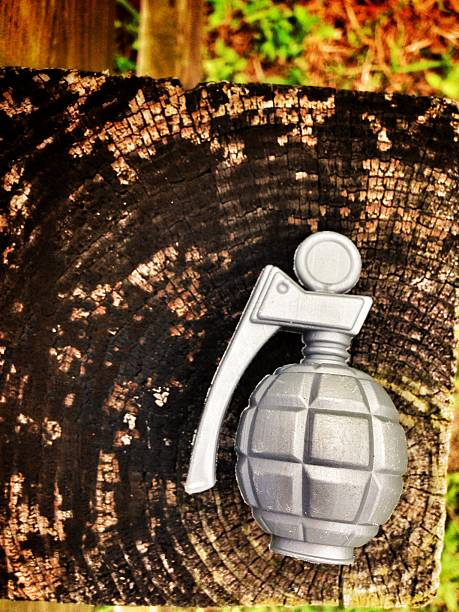e1: (186, 230, 403, 560)
